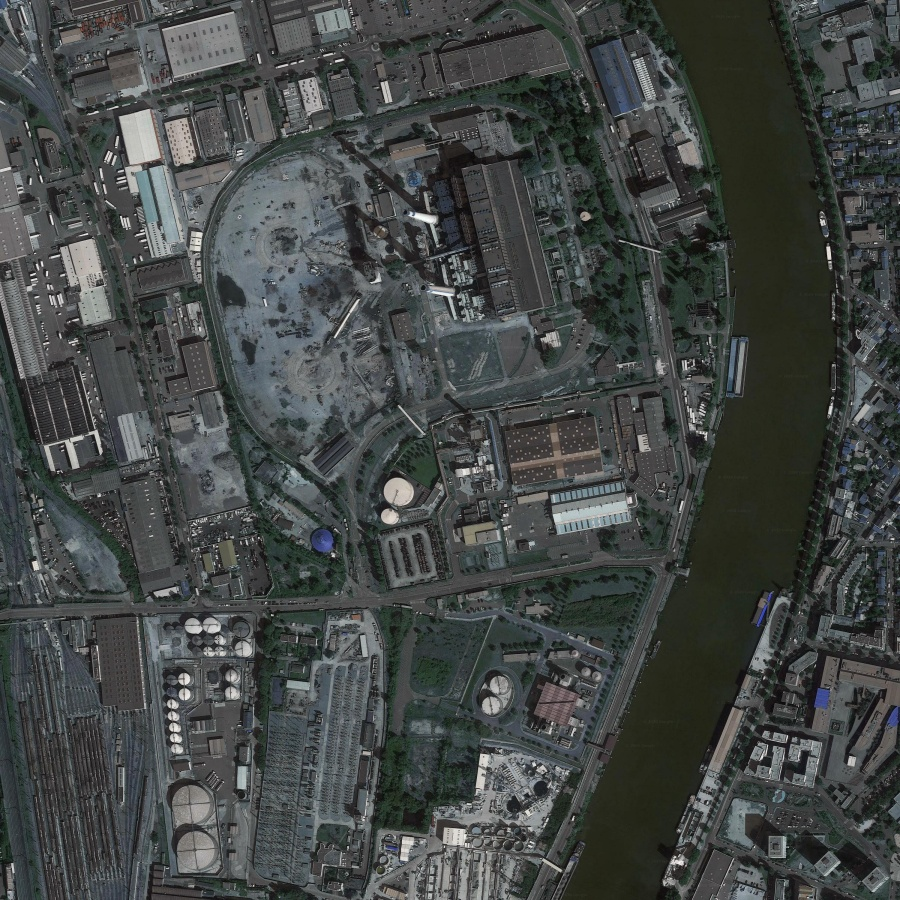PowerPlant: (332, 124, 536, 524)
